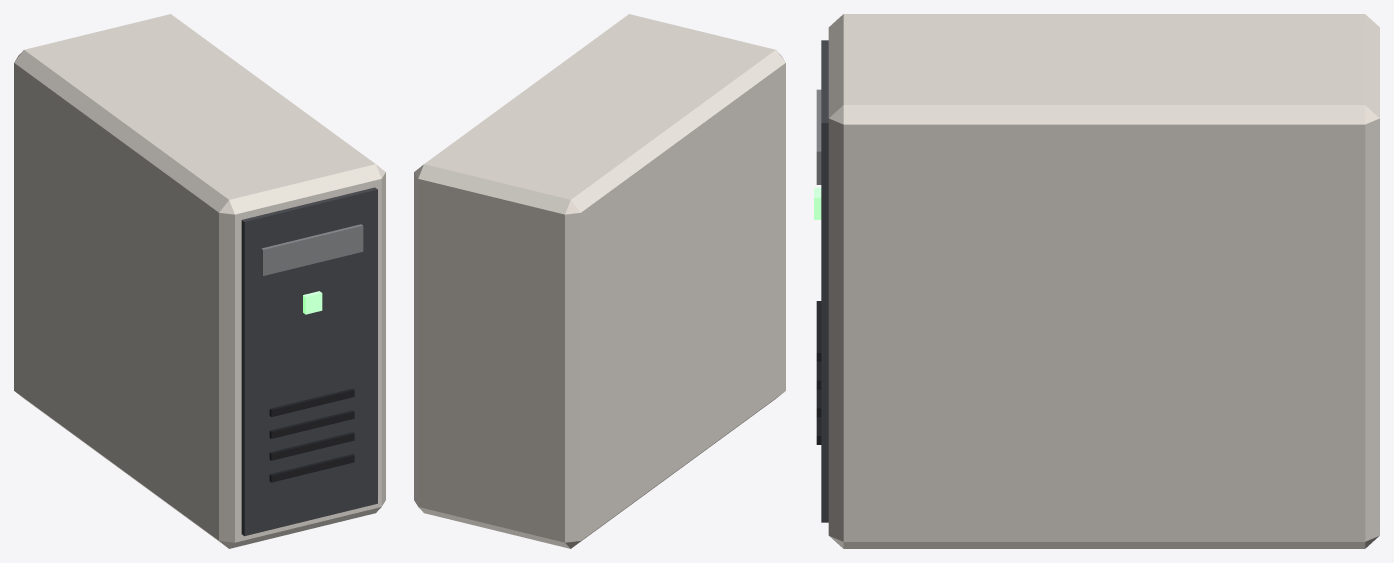
The model's file is pc_tower.glb.
3 views of the same model, side by side, from view 1: azimuth 30°, elevation 25°; view 2: azimuth 150°, elevation 25°; view 3: azimuth 270°, elevation 25° (orthographic). The views are drawn at different scales.
Visible parts, largest first — view 1: pc_tower; view 2: pc_tower; view 3: pc_tower.
Part boxes in pixels (<box>): pc_tower: <box>14,14,385,548</box>; pc_tower: <box>414,14,785,548</box>; pc_tower: <box>816,14,1379,548</box>.
Size of the model in its own units: 0.2 by 0.4 by 0.462.
2 materials, 1 textured.
